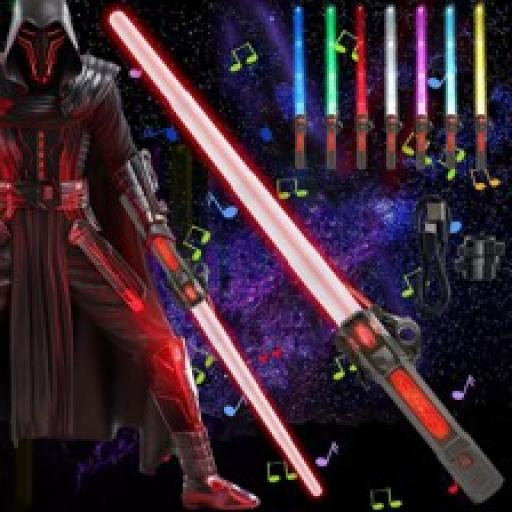lightsaber: (106, 7, 504, 505), (114, 190, 325, 494), (286, 9, 313, 164), (468, 2, 490, 170), (350, 6, 372, 168), (381, 7, 403, 169), (440, 6, 462, 168), (412, 4, 433, 173), (321, 5, 340, 170)
